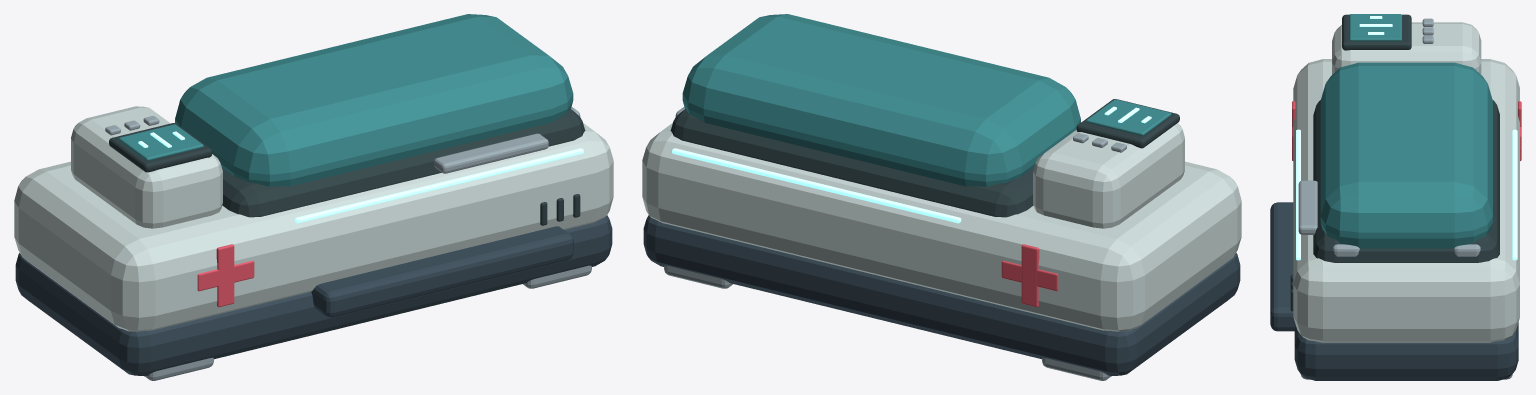
Rendered from camara-enfermaria.glb.
3 views of the same model, side by side, from view 1: azimuth 30°, elevation 25°; view 2: azimuth 150°, elevation 25°; view 3: azimuth 270°, elevation 25° (orthographic). The views are drawn at different scales.
Visible parts, largest first — view 1: Câmara de Enfermaria; view 2: Câmara de Enfermaria; view 3: Câmara de Enfermaria.
Part boxes in pixels (x1,y1,x2,y2): Câmara de Enfermaria: (14,14,613,380); Câmara de Enfermaria: (642,14,1241,380); Câmara de Enfermaria: (1270,14,1521,380).
Bounding box in the file's own units: 1.82 × 0.715 × 0.8751.
